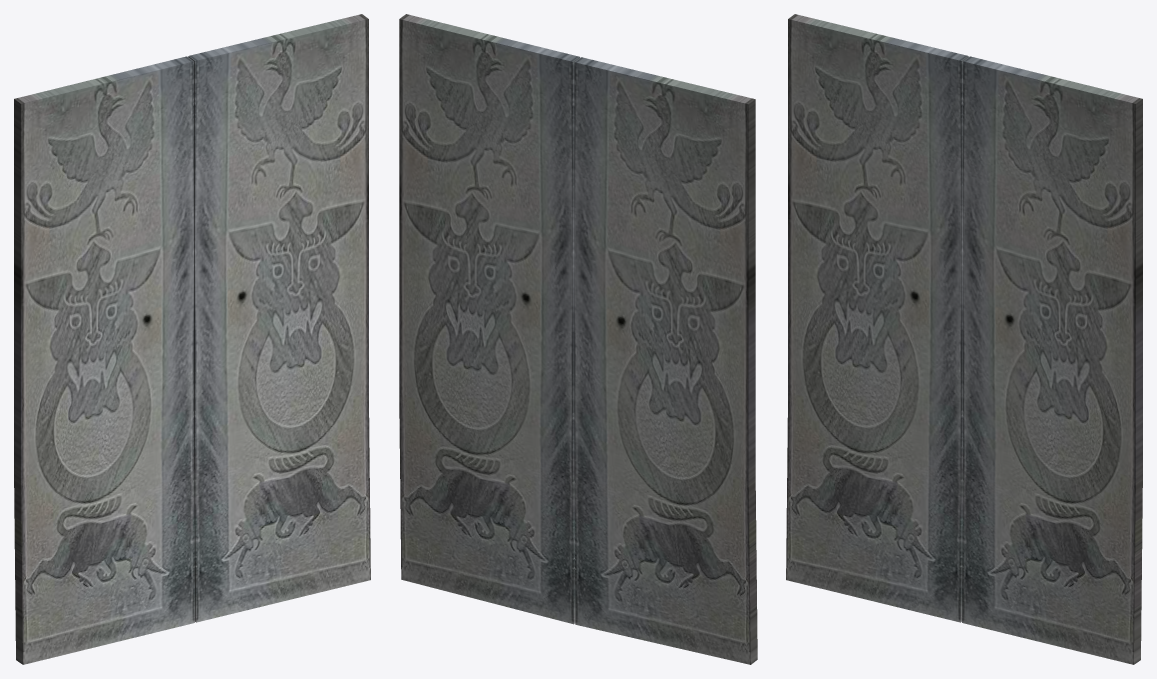
3 views of the same model, side by side, from view 1: azimuth 30°, elevation 25°; view 2: azimuth 150°, elevation 25°; view 3: azimuth 330°, elevation 25° (orthographic).
Parts seen in each view (by area): view 1: 对象064, 对象063; view 2: 对象064, 对象063; view 3: 对象063, 对象064.
Part boxes in pixels (bbox=[...]): 对象064: bbox=[14, 56, 194, 664]; 对象063: bbox=[188, 14, 370, 622]; 对象064: bbox=[574, 57, 757, 664]; 对象063: bbox=[399, 14, 579, 624]; 对象063: bbox=[962, 56, 1142, 664]; 对象064: bbox=[786, 14, 968, 622].
Size of the model in its own units: 137 by 211 by 6.42.
